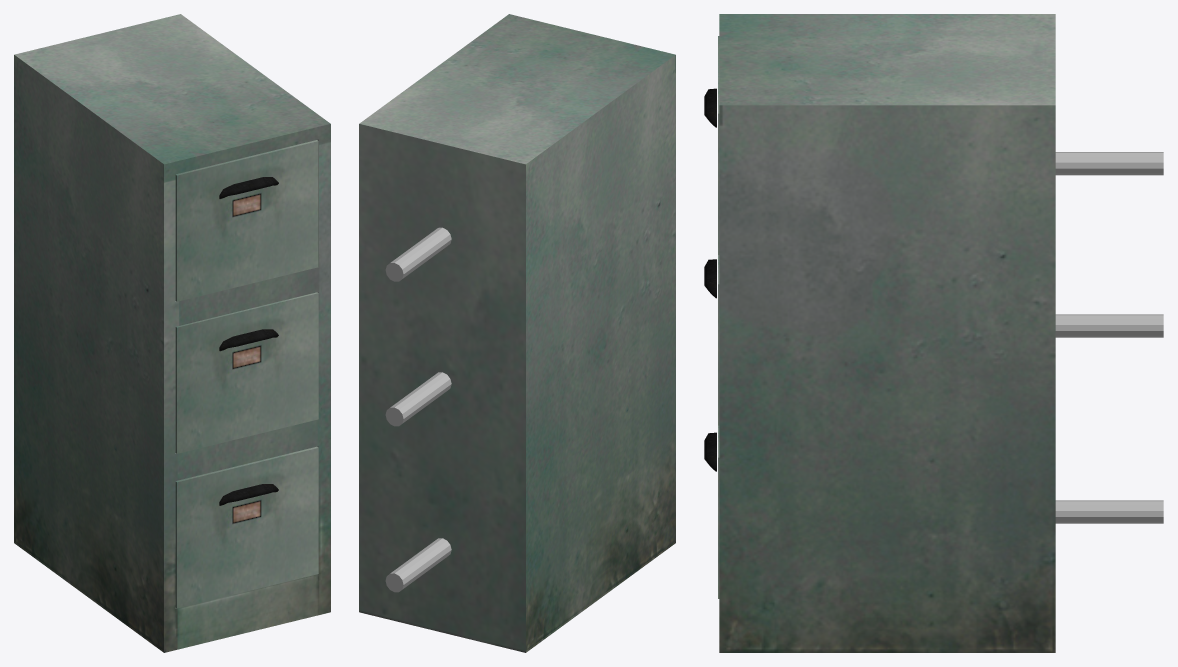
The model's file is office_filecabinet.dae.
3 renders of one model, left to right at view 1: azimuth 30°, elevation 25°; view 2: azimuth 150°, elevation 25°; view 3: azimuth 270°, elevation 25°, orthographic. The views are drawn at different scales.
Visible parts, largest first — view 1: cabinet, drawer3, drawer1, drawer2; view 2: cabinet, _joint_slider_drawer2_cabinet_0_50_nocollide_joint2, _joint_slider_drawer3_cabinet_0_50_nocollide_joint3, _joint_slider_drawer1_cabinet_0_50_nocollide_joint1; view 3: cabinet, _joint_slider_drawer2_cabinet_0_50_nocollide_joint2, _joint_slider_drawer3_cabinet_0_50_nocollide_joint3, _joint_slider_drawer1_cabinet_0_50_nocollide_joint1, drawer1, drawer3, drawer2.
Boxes of the visible parts, x1,y1,x2,y2 form: cabinet: (14,14,330,652); drawer3: (175,446,318,608); drawer1: (175,140,318,301); drawer2: (175,292,318,453); cabinet: (359,14,675,652); _joint_slider_drawer2_cabinet_0_50_nocollide_joint2: (385,372,451,426); _joint_slider_drawer3_cabinet_0_50_nocollide_joint3: (385,538,451,592); _joint_slider_drawer1_cabinet_0_50_nocollide_joint1: (385,227,451,281); cabinet: (719,14,1055,652); _joint_slider_drawer2_cabinet_0_50_nocollide_joint2: (1055,314,1163,337); _joint_slider_drawer3_cabinet_0_50_nocollide_joint3: (1055,500,1163,523); _joint_slider_drawer1_cabinet_0_50_nocollide_joint1: (1055,152,1163,175); drawer1: (704,36,719,254); drawer3: (704,425,719,598); drawer2: (704,255,719,425).
Size of what is drawn, in the model's own units: 0.4353 by 1.22 by 0.926.
